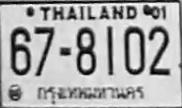0: (123, 25, 144, 74)
1: (106, 26, 113, 76)
2: (148, 24, 169, 74)
6: (9, 26, 30, 75)
7: (34, 26, 54, 76)
8: (75, 26, 95, 74)
BKK: (36, 83, 148, 106)
